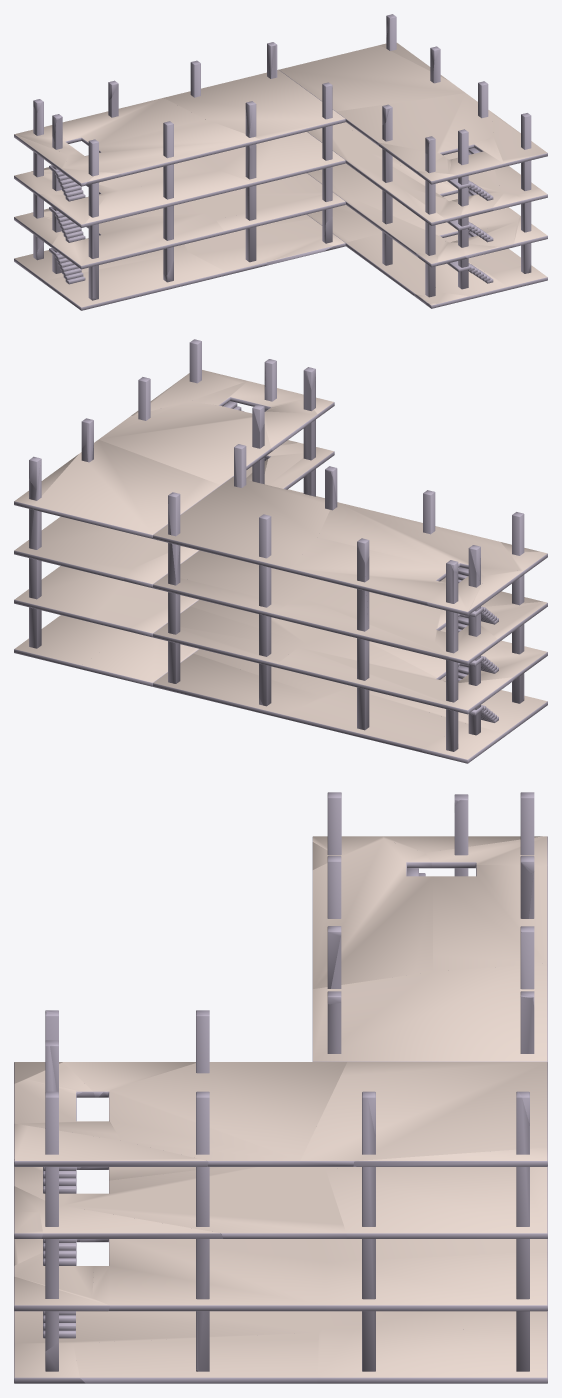
File: construction2.fbx
3 views of the same model, one above another, from view 1: azimuth 30°, elevation 25°; view 2: azimuth 150°, elevation 25°; view 3: azimuth 270°, elevation 25° (orthographic). The views are drawn at different scales.
Parts seen in each view (by area): view 1: construction2.004_cell.007, construction3.004_cell.006, construction2.004_cell.008, construction3.004_cell, construction3.002_cell.005, construction3.001_cell.004, construction3.001_cell.002, construction3.003_cell.004, construction3.003_cell.006, construction3.004_cell.004, construction3.002_cell.001, construction2.001_cell.007 (+50 smaller); view 2: construction2.004_cell.007, construction3.004_cell.006, construction2.004_cell.008, construction3.004_cell, construction3.002_cell.002, construction3.004_cell.004, construction3.001_cell.003, construction2.003_cell.005, construction3.001_cell.006, construction3.003_cell.004, construction3.003_cell.003, construction2.002_cell.009 (+45 smaller); view 3: construction2.004_cell.007, construction3.004_cell.006, construction2.004_cell.008, construction2.002_cell.004, construction2.003_cell.008, construction3.004_cell, construction2.003_cell.005, construction2.001_cell.008, construction2.002_cell.009, construction2.001_cell.009, construction3.004_cell.004, construction2.001_cell.004 (+31 smaller).
Boxes of the visible parts, left/top/right/bottom form: construction2.004_cell.007: left=279, top=45, right=465, bottom=111; construction3.004_cell.006: left=164, top=69, right=345, bottom=142; construction2.004_cell.008: left=336, top=93, right=493, bottom=155; construction3.004_cell: left=64, top=119, right=260, bottom=176; construction3.002_cell.005: left=51, top=213, right=224, bottom=269; construction3.001_cell.004: left=44, top=252, right=226, bottom=310; construction3.001_cell.002: left=185, top=219, right=322, bottom=275; construction3.003_cell.004: left=202, top=132, right=345, bottom=185; construction3.003_cell.006: left=84, top=170, right=253, bottom=226; construction3.004_cell.004: left=49, top=98, right=205, bottom=145; construction3.002_cell.001: left=199, top=175, right=322, bottom=219; construction2.001_cell.007: left=345, top=233, right=439, bottom=296; construction2.004_cell.007: left=33, top=439, right=220, bottom=538; construction3.004_cell.006: left=153, top=476, right=329, bottom=572; construction2.004_cell.008: left=99, top=402, right=272, bottom=484; construction3.004_cell: left=318, top=502, right=519, bottom=575; construction3.002_cell.002: left=277, top=632, right=447, bottom=709; construction3.004_cell.004: left=290, top=537, right=445, bottom=605; construction3.001_cell.003: left=284, top=688, right=466, bottom=752; construction2.003_cell.005: left=14, top=516, right=157, bottom=580; construction3.001_cell.006: left=153, top=653, right=321, bottom=718; construction3.003_cell.004: left=166, top=550, right=323, bottom=603; construction3.003_cell.003: left=299, top=581, right=441, bottom=641; construction2.002_cell.009: left=14, top=566, right=125, bottom=621; construction2.004_cell.007: left=300, top=1062, right=547, bottom=1166; construction3.004_cell.006: left=312, top=963, right=547, bottom=1061; construction2.004_cell.008: left=98, top=1062, right=346, bottom=1166; construction2.002_cell.004: left=92, top=1239, right=326, bottom=1311; construction2.003_cell.008: left=62, top=1167, right=346, bottom=1238; construction3.004_cell: left=312, top=839, right=432, bottom=988; construction2.003_cell.005: left=326, top=1166, right=547, bottom=1238; construction2.001_cell.008: left=317, top=1329, right=547, bottom=1383; construction2.002_cell.009: left=325, top=1251, right=547, bottom=1311; construction2.001_cell.009: left=73, top=1332, right=318, bottom=1383; construction3.004_cell.004: left=432, top=865, right=547, bottom=971; construction2.001_cell.004: left=14, top=1311, right=321, bottom=1343.
Bounding box in the file's own units: 15.76 × 22.7 × 9.13.
